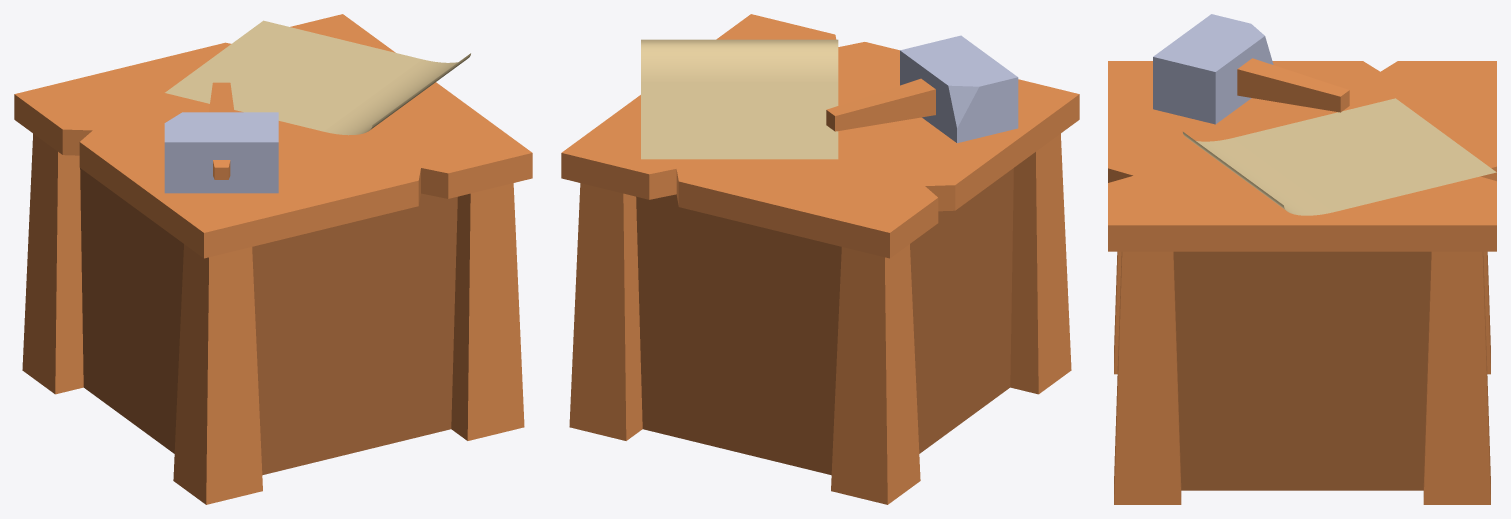
The model's file is workbench.fbx.
3 renders of one model, left to right at view 1: azimuth 30°, elevation 25°; view 2: azimuth 150°, elevation 25°; view 3: azimuth 270°, elevation 25°, orthographic. The views are drawn at different scales.
Parts seen in each view (by area): view 1: workbench, paper, hammer; view 2: workbench, paper, hammer; view 3: workbench, paper, hammer.
Boxes of the visible parts, x1,y1,x2,y2 form: workbench: [14, 14, 532, 504]; paper: [165, 20, 470, 135]; hammer: [164, 82, 278, 193]; workbench: [561, 14, 1079, 504]; paper: [641, 39, 838, 159]; hammer: [826, 35, 1018, 143]; workbench: [1108, 61, 1496, 504]; paper: [1183, 98, 1496, 215]; hammer: [1153, 14, 1349, 124].
Size of the model in its own units: 2.89 by 2.55 by 2.69.
